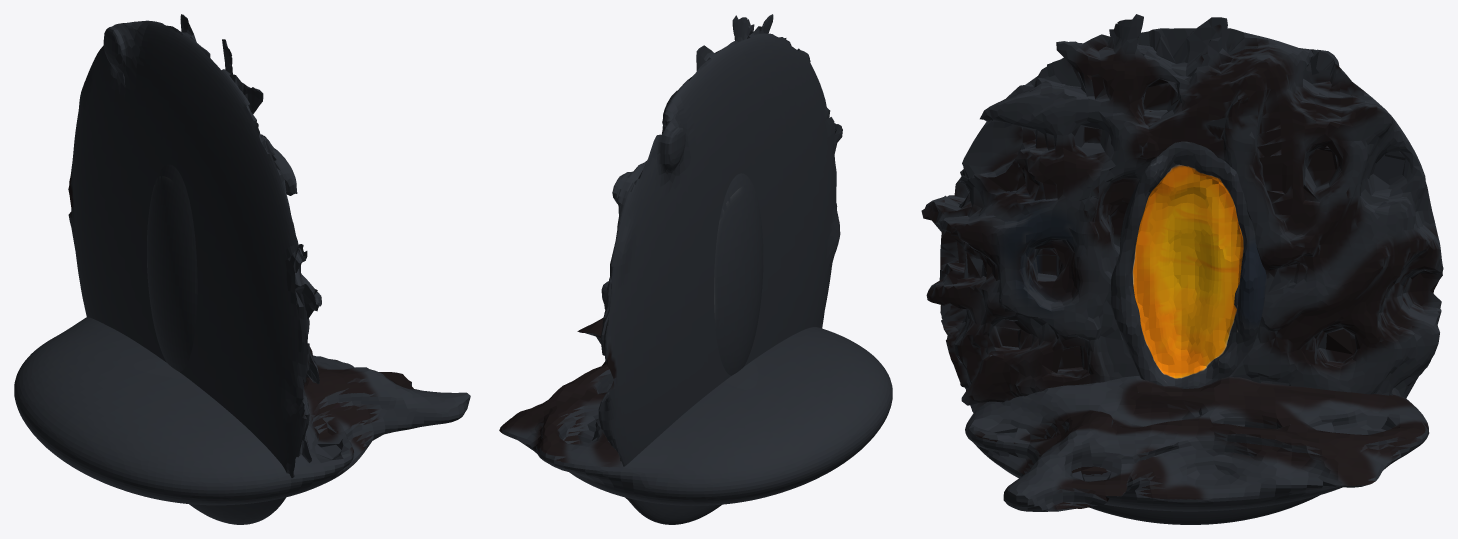
Rendered from portal_final.glb.
3 views of the same model, side by side, from view 1: azimuth 30°, elevation 25°; view 2: azimuth 150°, elevation 25°; view 3: azimuth 270°, elevation 25° (orthographic). The views are drawn at different scales.
Visible parts, largest first — view 1: Cube.001, Cube.002, Cube; view 2: Cube.001, Cube.002, Cube; view 3: Cube.001, Cube.002, Cube.
Part boxes in pixels (x1,y1,x2,y2): Cube.001: (68,14,321,524); Cube.002: (14,317,470,505); Cube: (147,164,197,371); Cube.001: (598,14,842,524); Cube.002: (499,281,892,505); Cube: (714,173,763,375); Cube.001: (921,14,1443,524); Cube.002: (965,376,1429,511); Cube: (1111,141,1266,388).
Bounding box in the file's own units: 3.22 × 4.41 × 4.05.
Materials: 3 (3 with a texture image).
